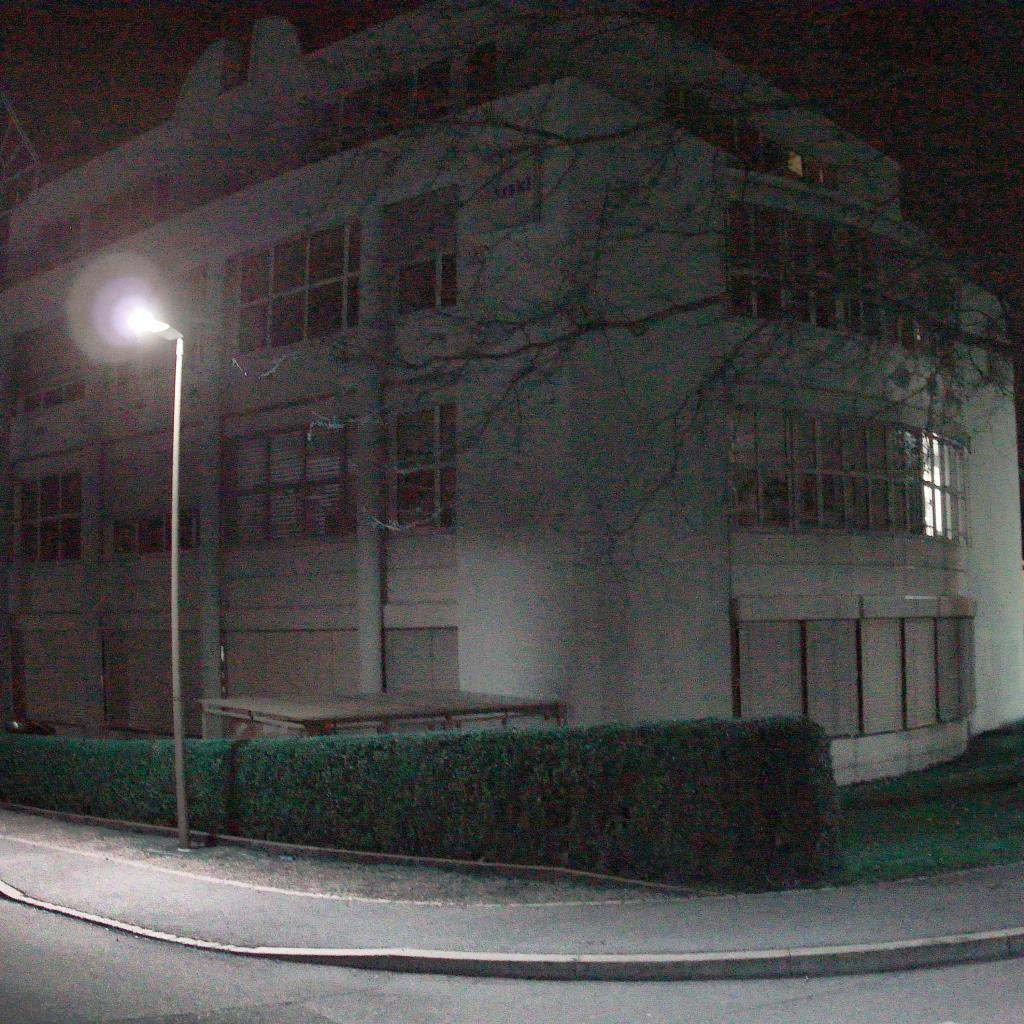facade: (0, 2, 1024, 785)
non-building-infrastructure: (201, 689, 572, 737)
street: (0, 803, 1024, 1024)
traffic-infrastructure: (123, 305, 190, 850)
vegetation: (224, 0, 1024, 584), (186, 714, 1024, 892), (0, 733, 177, 828)
window: (309, 40, 500, 161), (667, 83, 841, 193), (237, 218, 362, 356), (221, 422, 356, 544), (111, 267, 207, 389), (102, 629, 201, 736), (384, 186, 458, 324), (222, 627, 358, 696), (114, 448, 200, 553), (9, 309, 89, 421), (729, 403, 794, 531), (13, 619, 87, 726), (396, 405, 458, 532), (721, 207, 785, 319), (806, 621, 863, 739), (787, 211, 843, 330), (793, 412, 848, 530), (89, 174, 173, 251), (736, 622, 806, 714), (847, 417, 896, 533), (21, 474, 82, 562), (842, 224, 887, 340), (892, 423, 937, 537), (382, 626, 460, 690), (861, 619, 904, 735), (934, 434, 973, 546), (884, 239, 922, 353), (0, 100, 37, 215), (939, 616, 978, 724), (904, 618, 941, 730), (921, 253, 955, 360), (34, 212, 79, 271), (220, 34, 252, 89)
